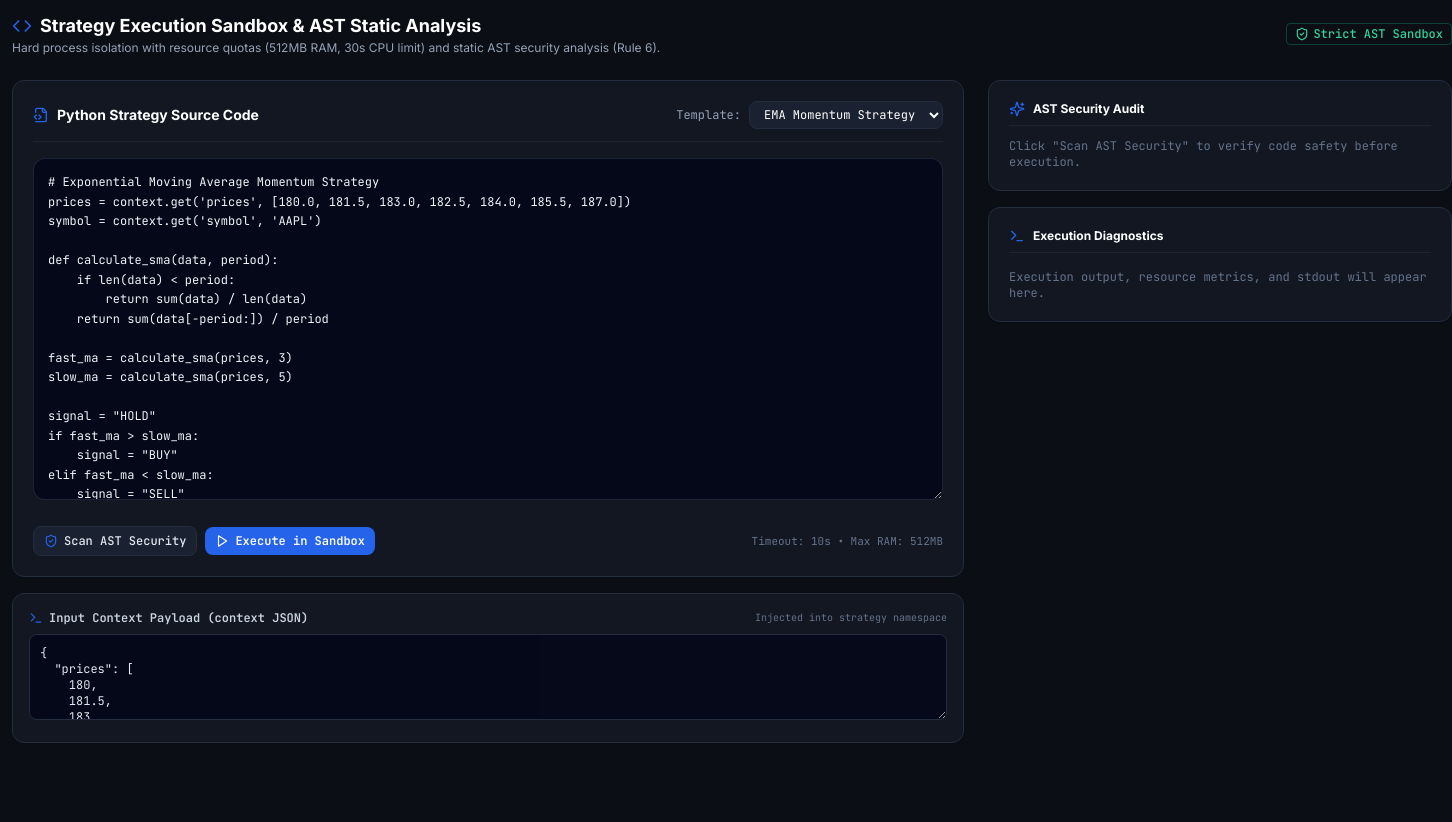
Test: StrategySandboxPage › allows scanning AST security and displaying safe audit banner
Click the button "Scan AST Security": (115, 541) [33,526,197,556]
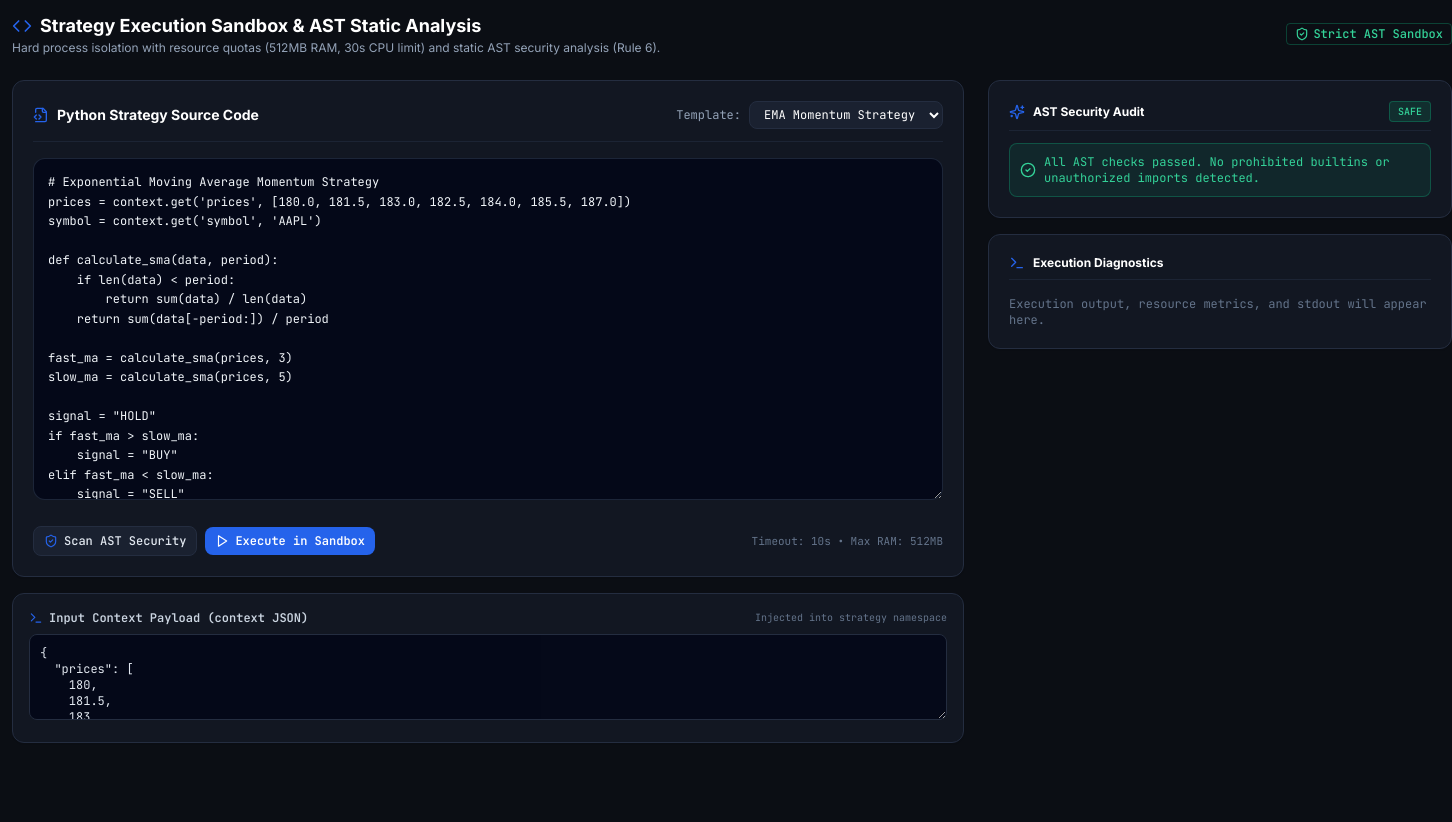
Expected: the text "All AST checks passed" is shown, [1044,154,1390,186]
